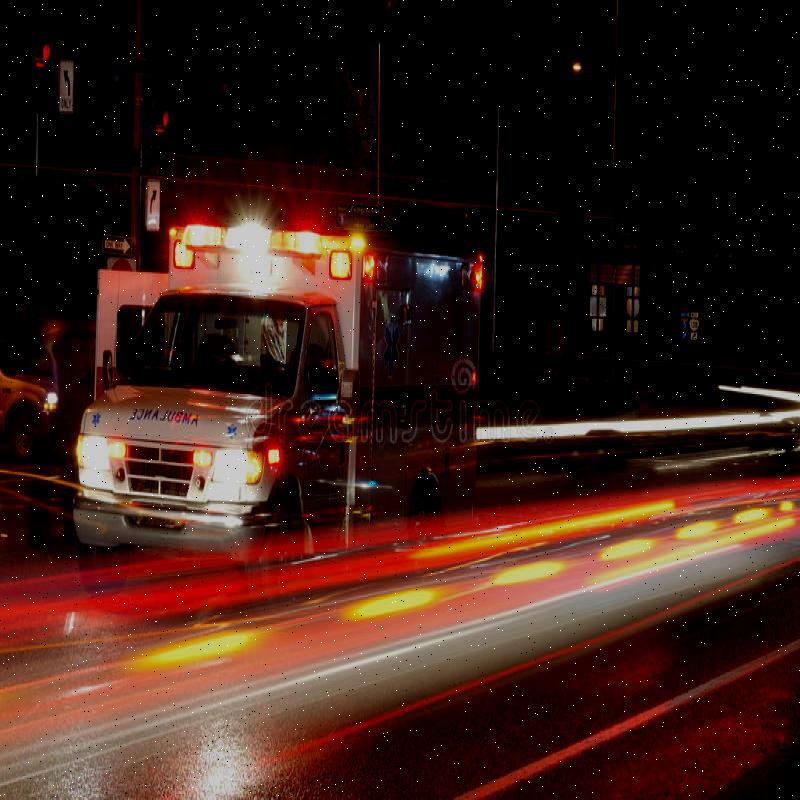ambulance: (98, 190, 496, 530)
